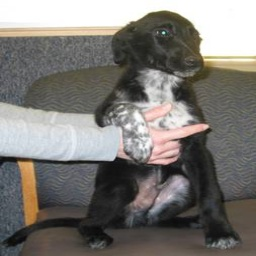dog: (80, 12, 243, 251)
